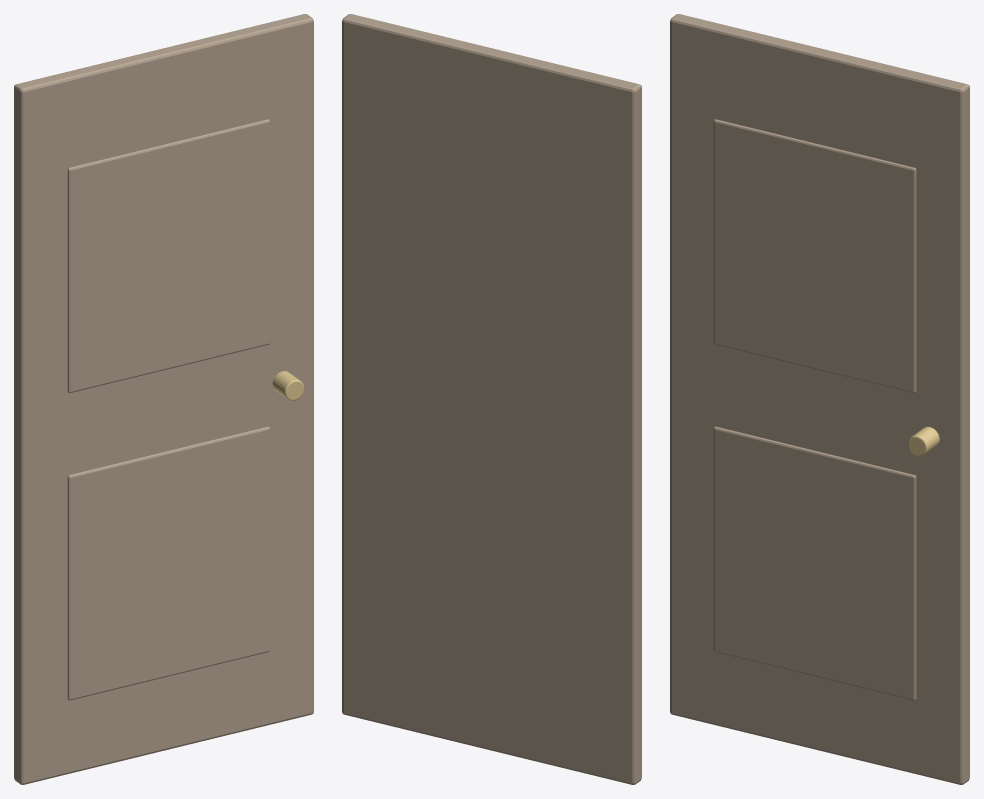
Rendered from door_leaf.fbx.
3 renders of one model, left to right at view 1: azimuth 30°, elevation 25°; view 2: azimuth 150°, elevation 25°; view 3: azimuth 330°, elevation 25°, orthographic.
Parts seen in each view (by area): view 1: door_leaf; view 2: door_leaf; view 3: door_leaf.
Boxes of the visible parts, x1,y1,x2,y2 form: door_leaf: (14, 14, 313, 784); door_leaf: (342, 14, 641, 784); door_leaf: (670, 14, 969, 784).
Size of the model in its own units: 0.9 by 2.04 by 0.1125.
